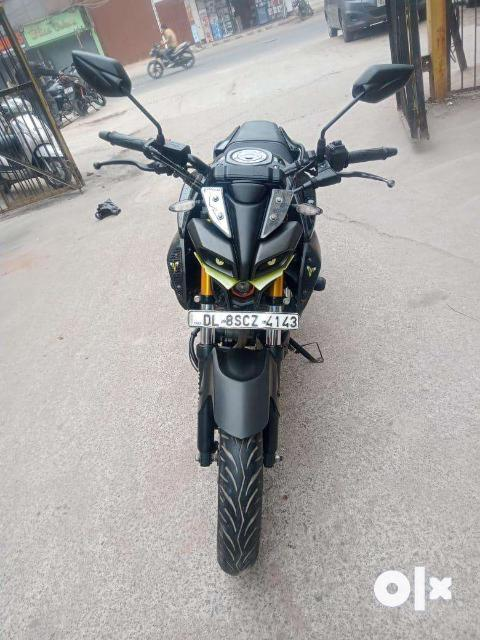Indian_Number_Plate: (189, 311, 299, 330)
